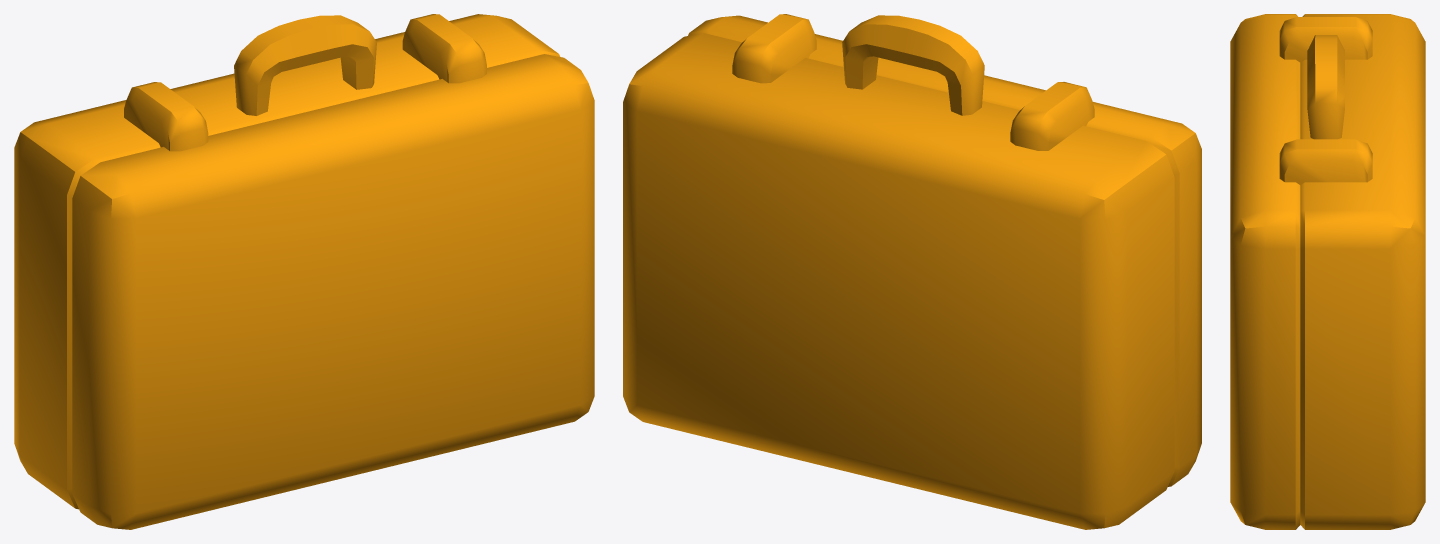
Rendered from Case.obj.
3 renders of one model, left to right at view 1: azimuth 30°, elevation 25°; view 2: azimuth 150°, elevation 25°; view 3: azimuth 270°, elevation 25°, orthographic. The views are drawn at different scales.
Parts seen in each view (by area): view 1: Case; view 2: Case; view 3: Case.
Part boxes in pixels (x1,y1,x2,y2): Case: (14,14,594,529); Case: (623,14,1201,529); Case: (1230,14,1425,529).
Bounding box in the file's own units: 0.5385 × 0.4378 × 0.2018.
